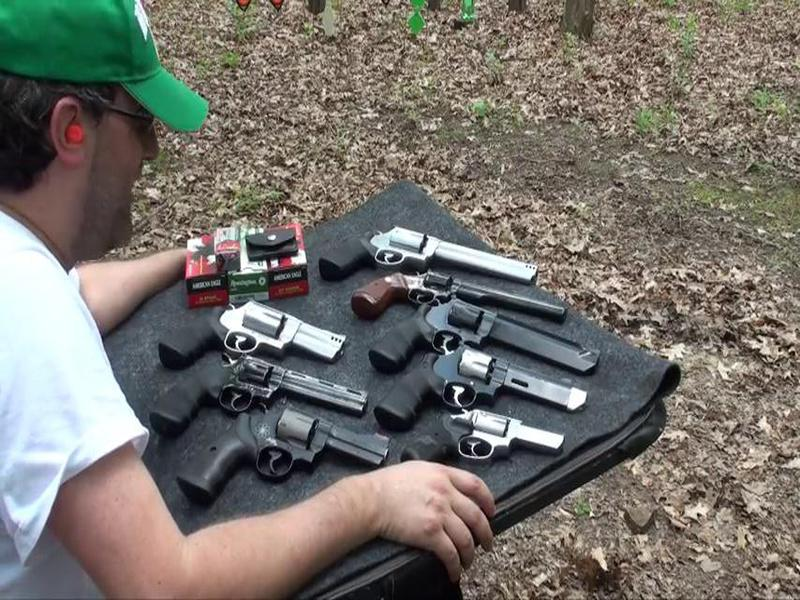Revolver: (146, 299, 351, 370)
